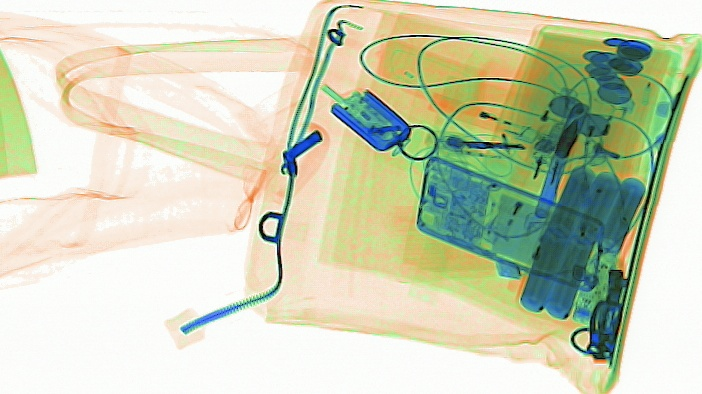lighter: (425, 90, 539, 144), (485, 159, 545, 250), (502, 202, 556, 300), (521, 85, 578, 173), (586, 93, 636, 184), (569, 80, 610, 166)
powerbank: (516, 163, 647, 320)
